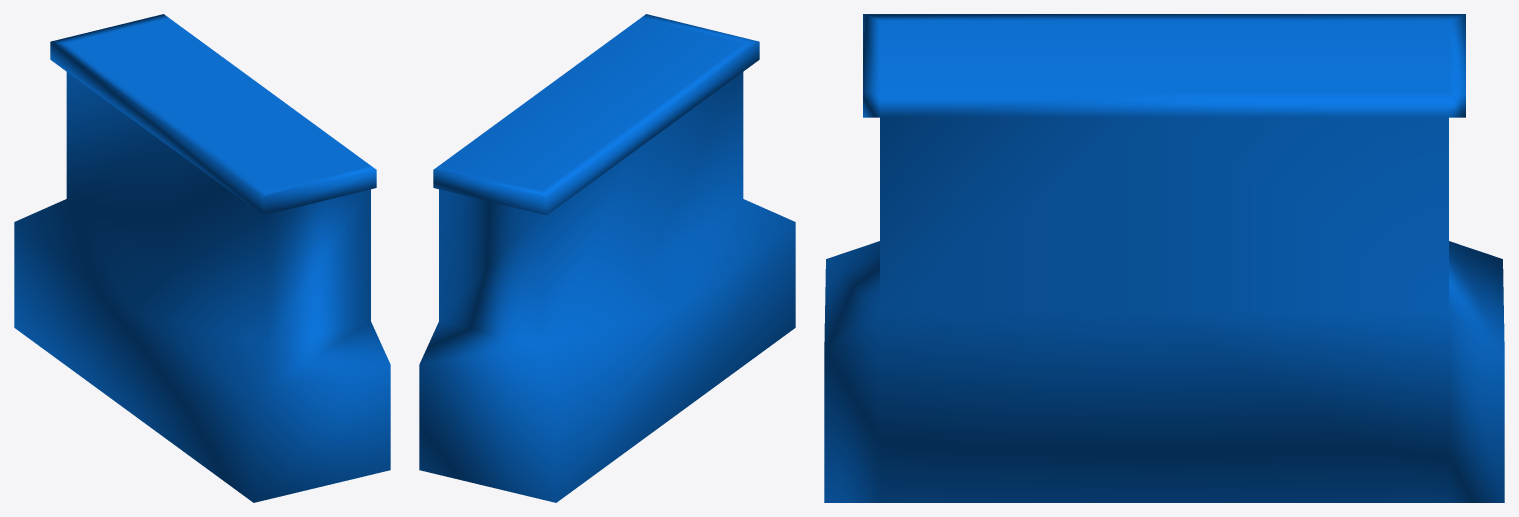
Rendered from Pillar_Base_Orn_01.fbx.
3 renders of one model, left to right at view 1: azimuth 30°, elevation 25°; view 2: azimuth 150°, elevation 25°; view 3: azimuth 270°, elevation 25°, orthographic. The views are drawn at different scales.
Visible parts, largest first — view 1: Pillar_Base_Orn_01; view 2: Pillar_Base_Orn_01; view 3: Pillar_Base_Orn_01.
Boxes of the visible parts, x1,y1,x2,y2 form: Pillar_Base_Orn_01: (14,14,390,502); Pillar_Base_Orn_01: (419,14,795,502); Pillar_Base_Orn_01: (824,14,1504,502).
Size of the model in its own units: 42.25 by 86.02 by 129.
